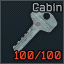Portable cabin key: (0, 0, 64, 64)
